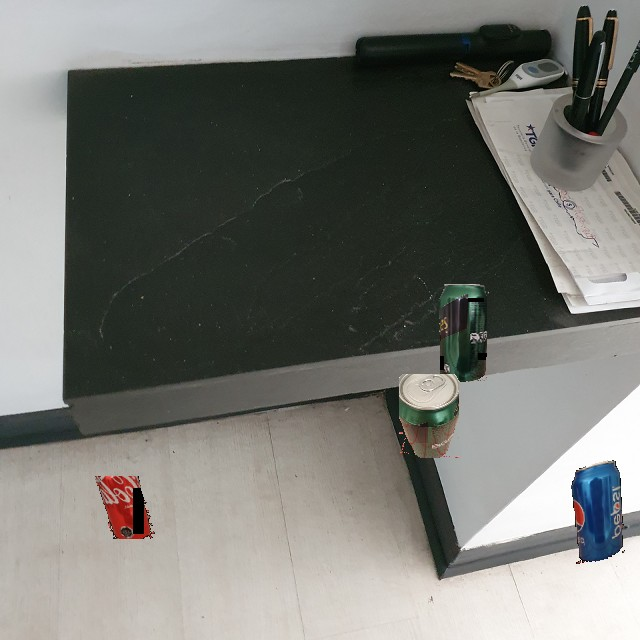coca cola: (94, 476, 156, 539)
pepsi: (571, 458, 625, 566)
schweppes: (399, 374, 459, 458), (439, 284, 487, 383)
